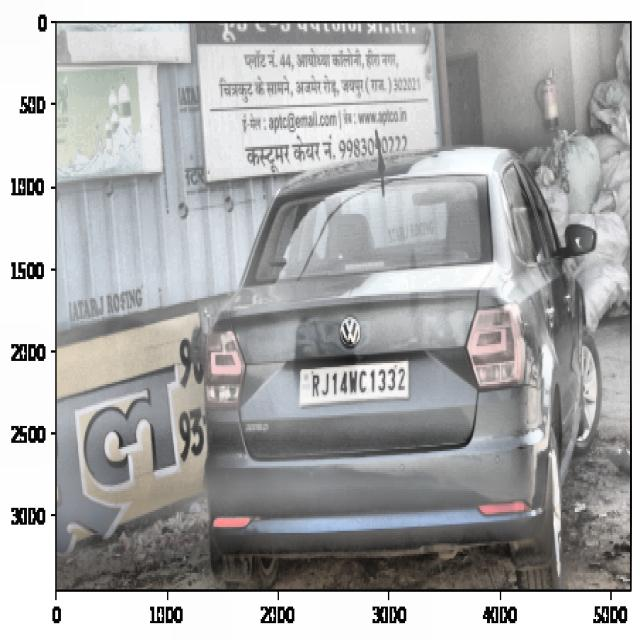license_plate: (307, 360, 413, 405)
